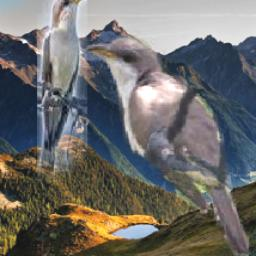Cuckoo: (84, 31, 250, 256), (37, 0, 87, 205)
